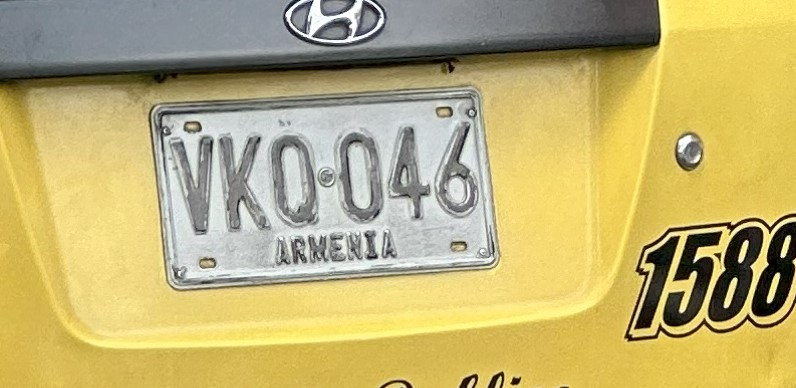number plate: (0, 2, 795, 385), (149, 85, 500, 291), (151, 88, 497, 288), (673, 131, 704, 171)
